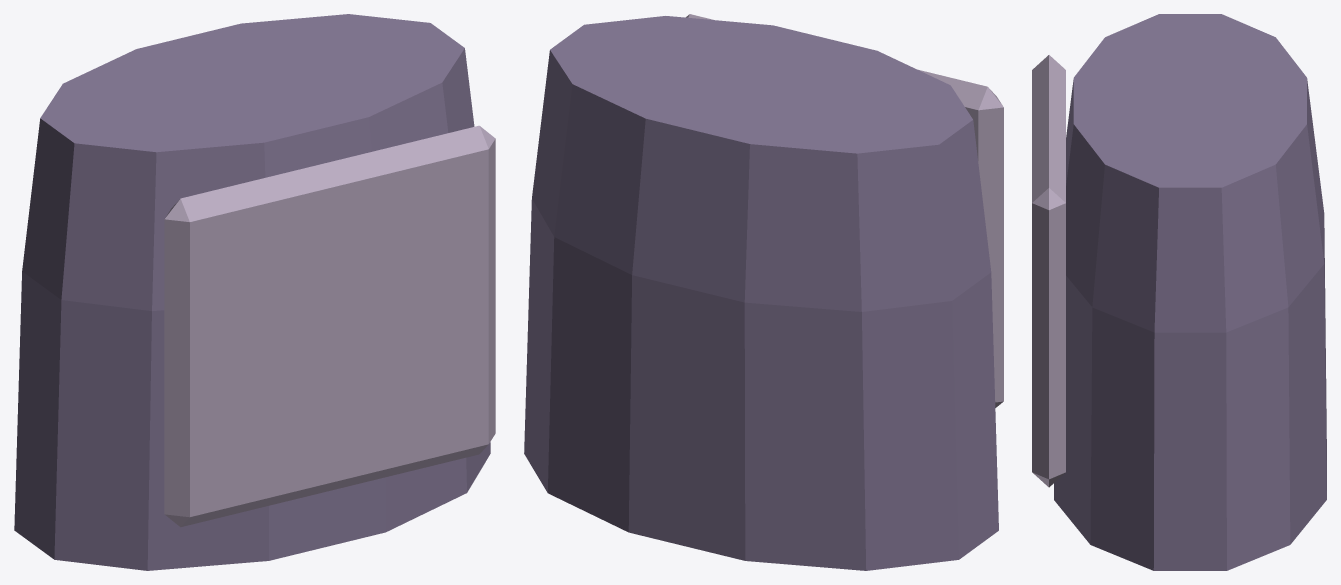
The model's file is padded_vest.glb.
3 views of the same model, side by side, from view 1: azimuth 30°, elevation 25°; view 2: azimuth 150°, elevation 25°; view 3: azimuth 270°, elevation 25° (orthographic). The views are drawn at different scales.
Parts seen in each view (by area): view 1: Gear_Body_Vest__Shell, Gear_Body_Vest__Front; view 2: Gear_Body_Vest__Shell, Gear_Body_Vest__Front; view 3: Gear_Body_Vest__Shell, Gear_Body_Vest__Front.
Boxes of the visible parts, left/top/right/bottom form: Gear_Body_Vest__Shell: left=14, top=14, right=490, bottom=570; Gear_Body_Vest__Front: left=164, top=125, right=495, bottom=527; Gear_Body_Vest__Shell: left=524, top=16, right=998, bottom=570; Gear_Body_Vest__Front: left=685, top=14, right=1003, bottom=407; Gear_Body_Vest__Shell: left=1054, top=14, right=1326, bottom=570; Gear_Body_Vest__Front: left=1032, top=55, right=1065, bottom=487.
Size of the model in its own units: 0.5139 by 0.46 by 0.3296.
